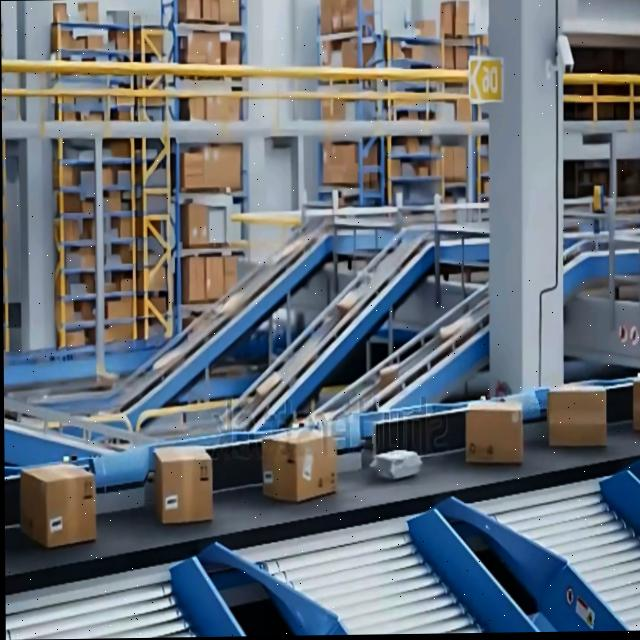product 1: (261, 426, 337, 503), (166, 442, 213, 523), (464, 399, 522, 464)
product 2: (369, 448, 422, 481)
